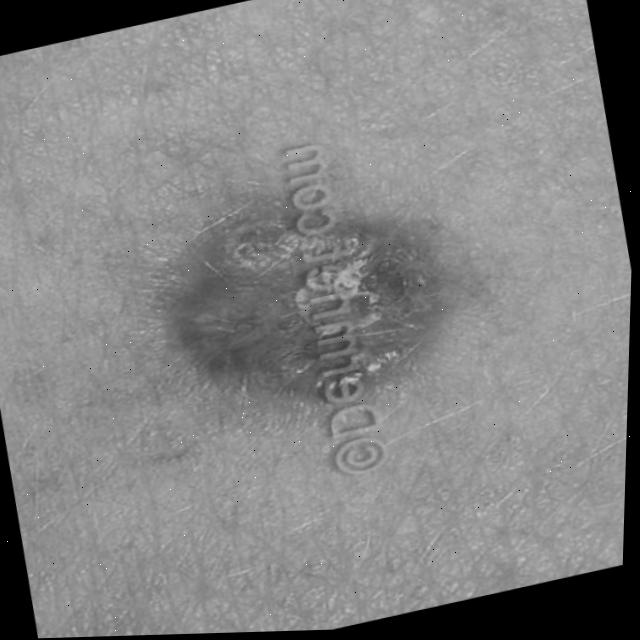Eczema: (121, 146, 499, 444)
